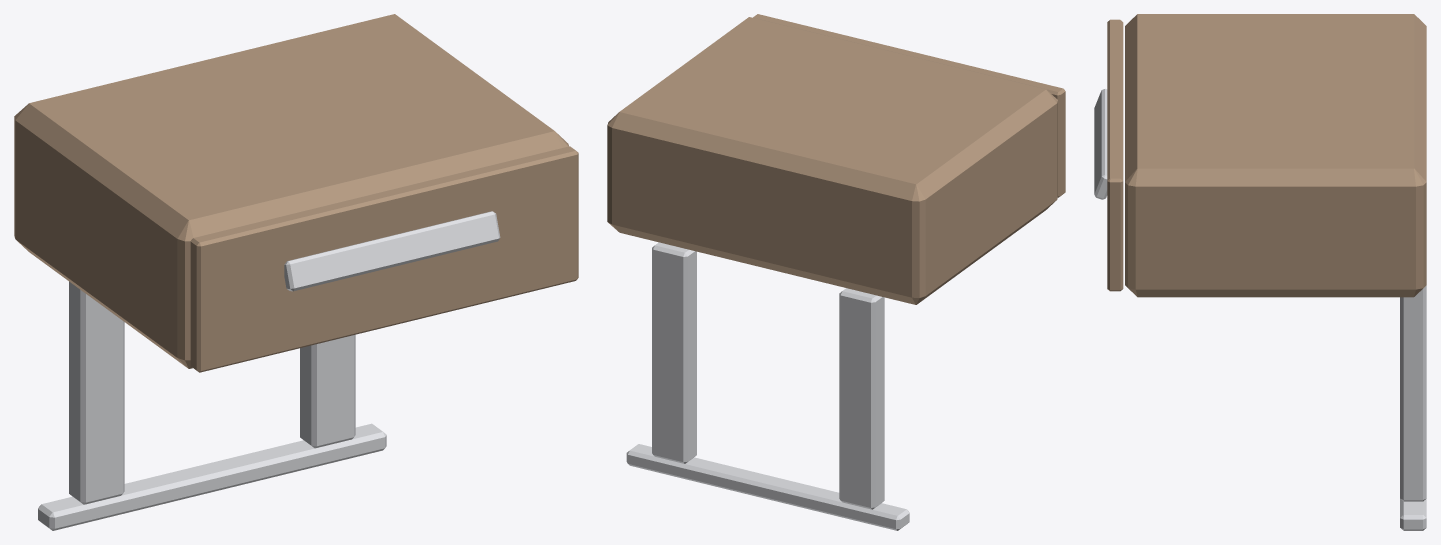
The model's file is hotel-and-resort-operations-nightstand-floating-f8f779cd__25744.glb.
3 views of the same model, side by side, from view 1: azimuth 30°, elevation 25°; view 2: azimuth 150°, elevation 25°; view 3: azimuth 270°, elevation 25° (orthographic). The views are drawn at different scales.
Visible parts, largest first — view 1: nightstand-floating, drawer/surface, drawer/metal; view 2: nightstand-floating, drawer/surface; view 3: nightstand-floating, drawer/surface, drawer/metal.
Boxes of the visible parts, left/top/right/bottom form: nightstand-floating: left=14, top=14, right=568, bottom=530; drawer/surface: left=190, top=146, right=578, bottom=372; drawer/metal: left=284, top=211, right=500, bottom=291; nightstand-floating: left=607, top=17, right=1057, bottom=530; drawer/surface: left=753, top=14, right=1065, bottom=197; nightstand-floating: left=1125, top=14, right=1426, bottom=530; drawer/surface: left=1107, top=19, right=1123, bottom=291; drawer/metal: left=1094, top=88, right=1107, bottom=199.
Bounding box in the file's own units: 0.44 × 0.46 × 0.3746.
